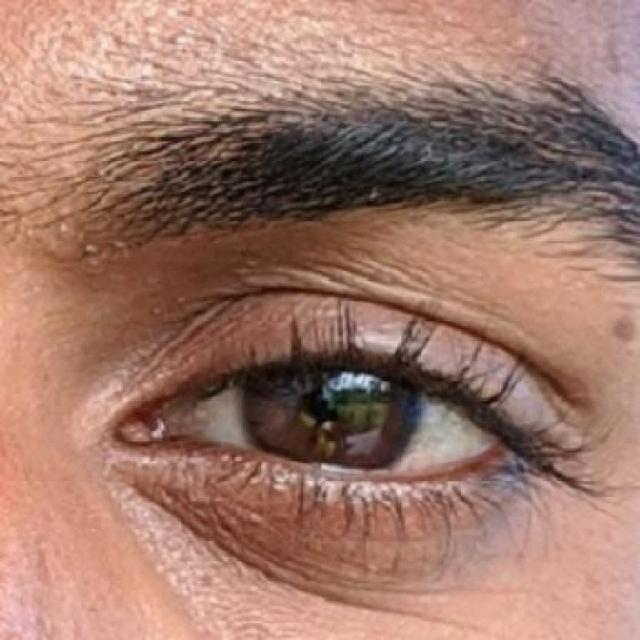awake: (118, 285, 554, 598)
